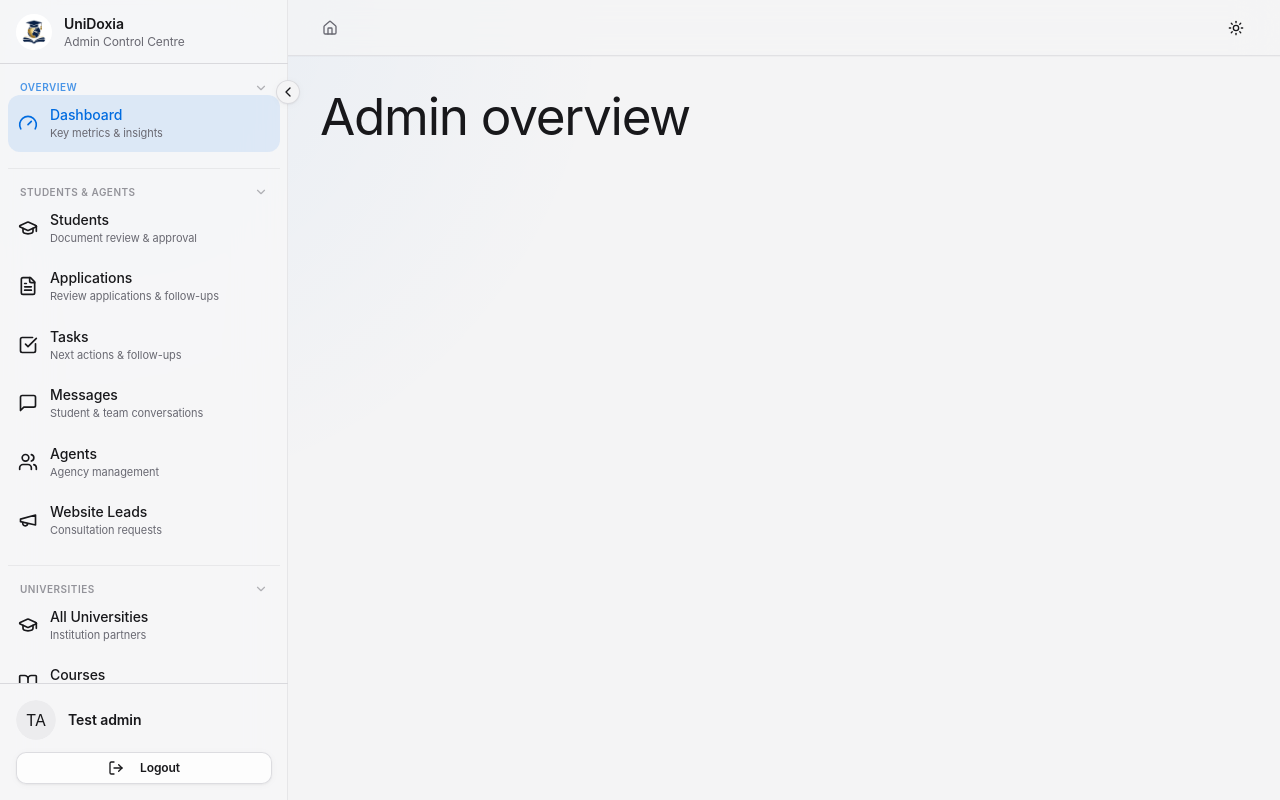
Test case: admin applications navigation › opens the applications route from the admin sidebar
Click the link "Applications": (118, 286) x1=18 y1=269 x2=219 y2=303
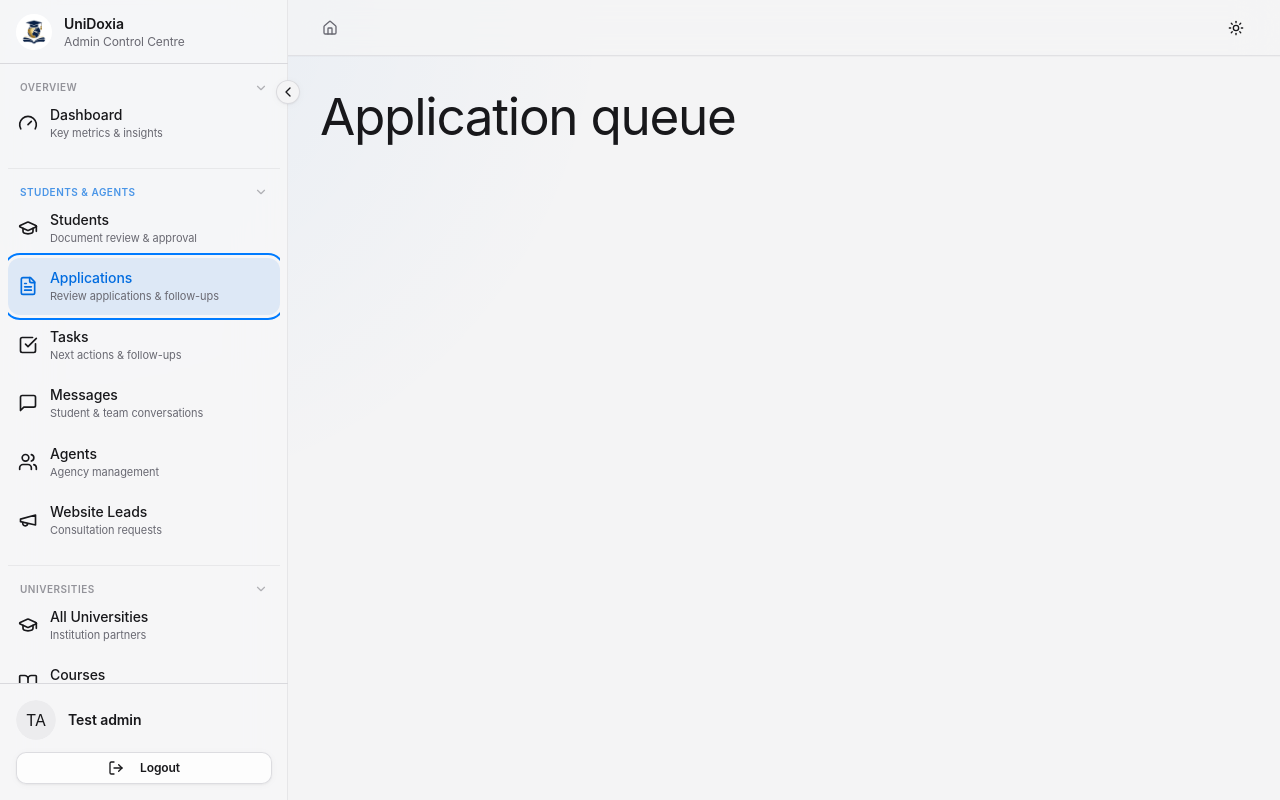
Result: the heading "Application queue" is shown at x1=320 y1=85 x2=736 y2=147
